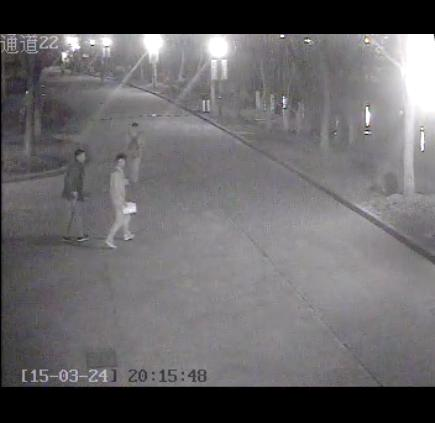person: (57, 135, 93, 244), (102, 152, 136, 250), (120, 118, 150, 176)
